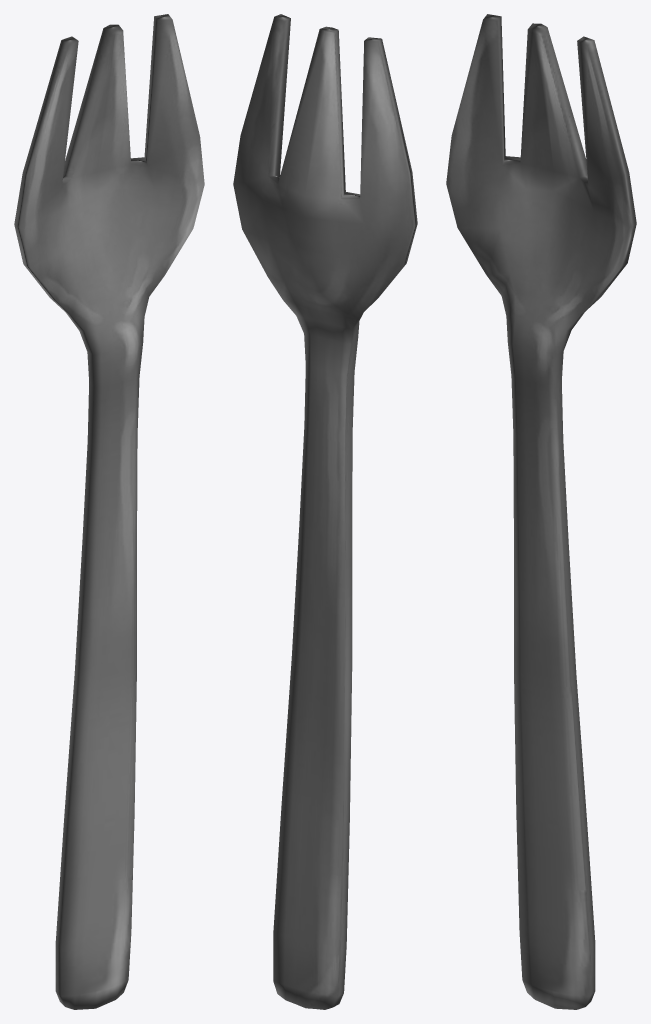
Rendered from Tenedor Fin.FBX.
The picture shows the model from 3 angles, left to right: view 1: azimuth 30°, elevation 25°; view 2: azimuth 150°, elevation 25°; view 3: azimuth 330°, elevation 25°; orthographic projection. The views are drawn at different scales.
Parts seen in each view (by area): view 1: Tenedor; view 2: Tenedor; view 3: Tenedor.
Part boxes in pixels (bbox=[...]): Tenedor: bbox=[14, 14, 204, 1009]; Tenedor: bbox=[233, 14, 417, 1009]; Tenedor: bbox=[446, 14, 636, 1009].
Bounding box in the file's own units: 4.4 × 22.5 × 1.31.
Materials: 1 (1 with a texture image).
